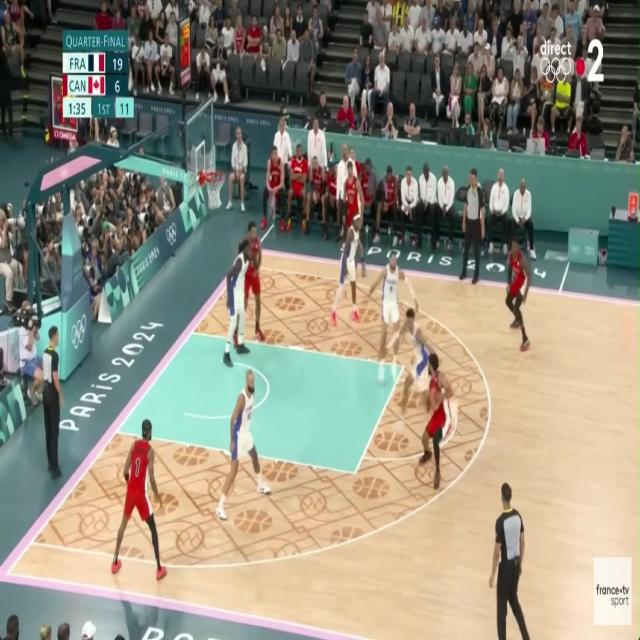ball_handler: (421, 354, 452, 491)
